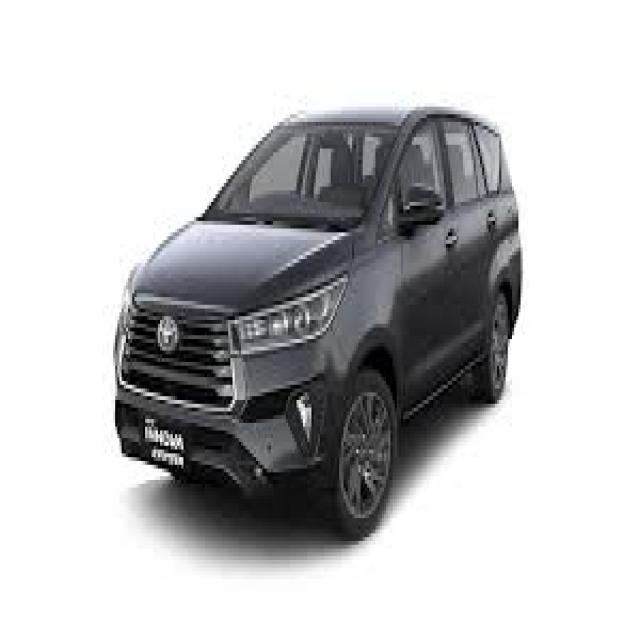light_vehicle: (113, 107, 522, 540)
